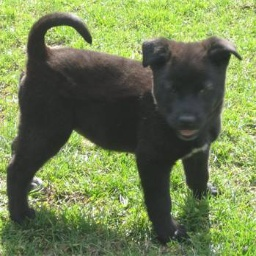dog: (6, 6, 228, 244)
